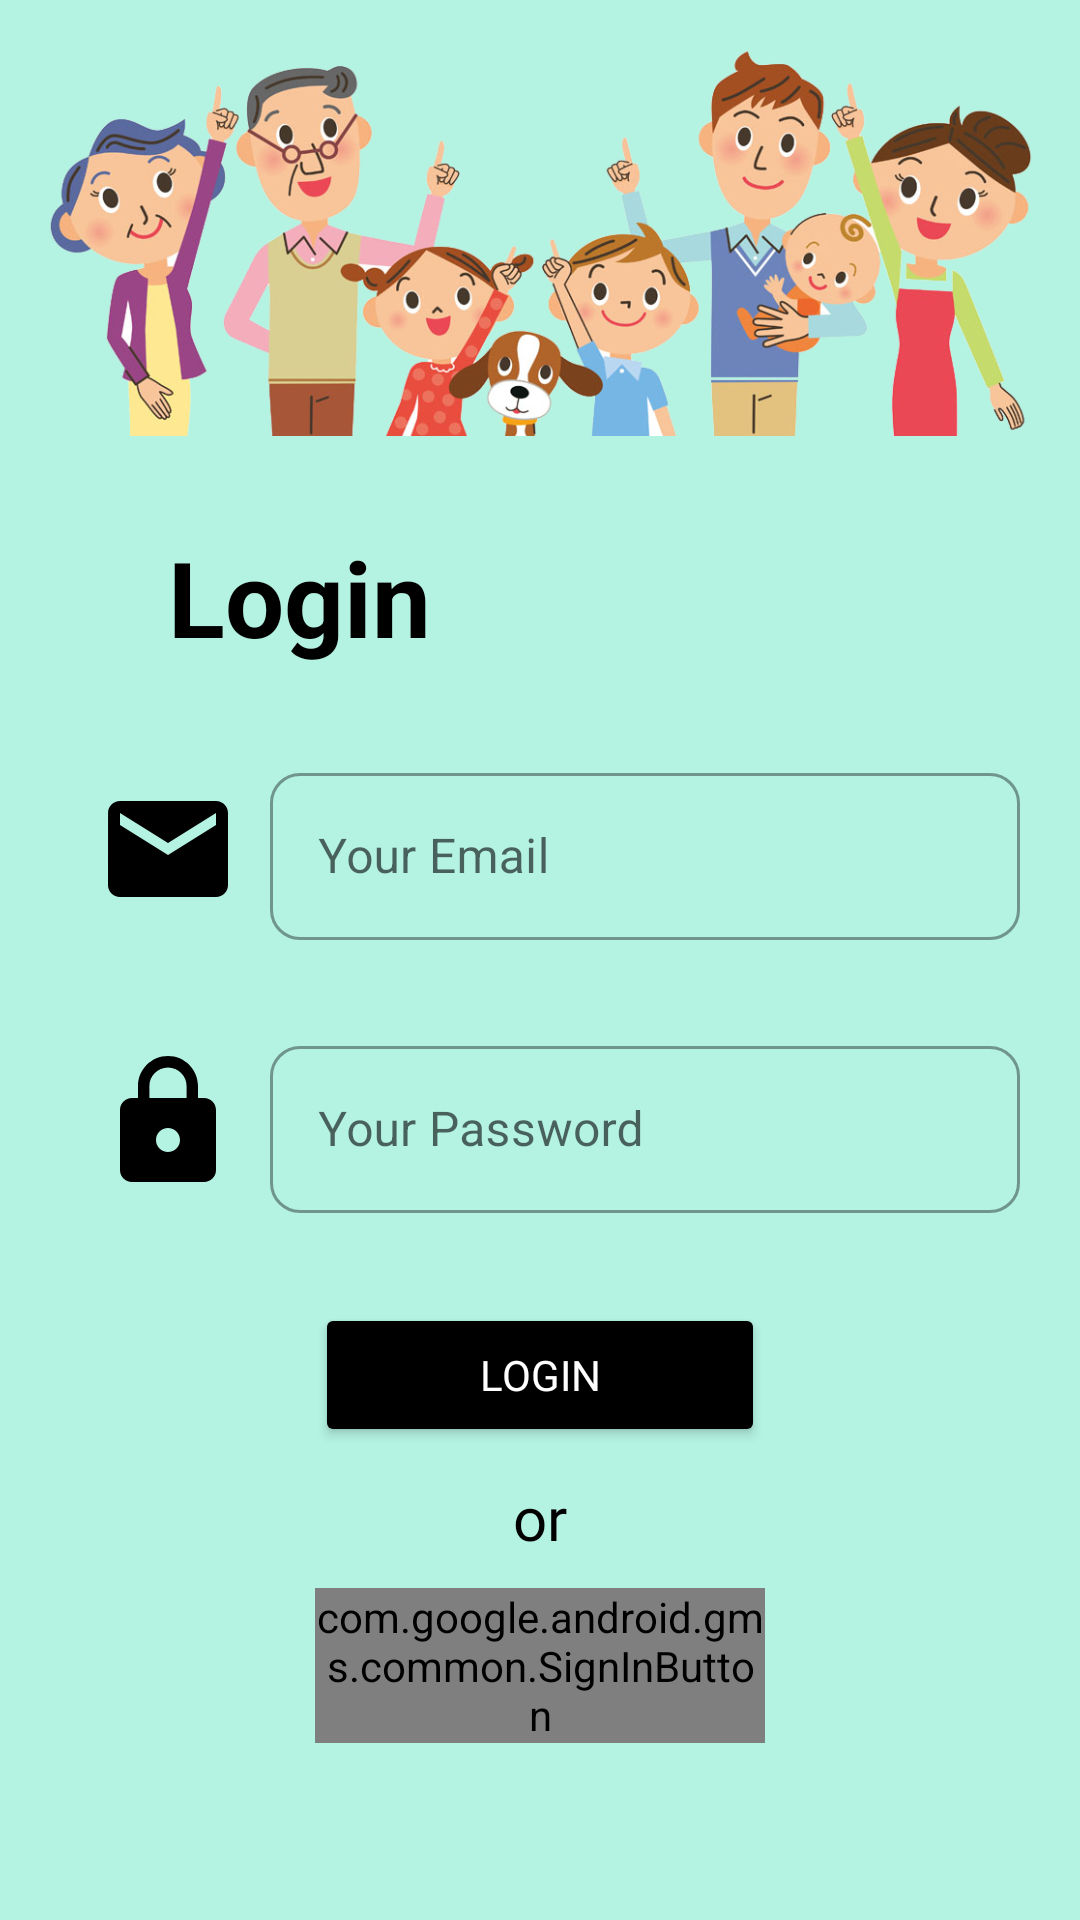

Icons on this 1080w x 1920h Android screen, each with its box as box=[x1, y1, x2, y2]:
lock: box=[120, 1056, 216, 1182]
